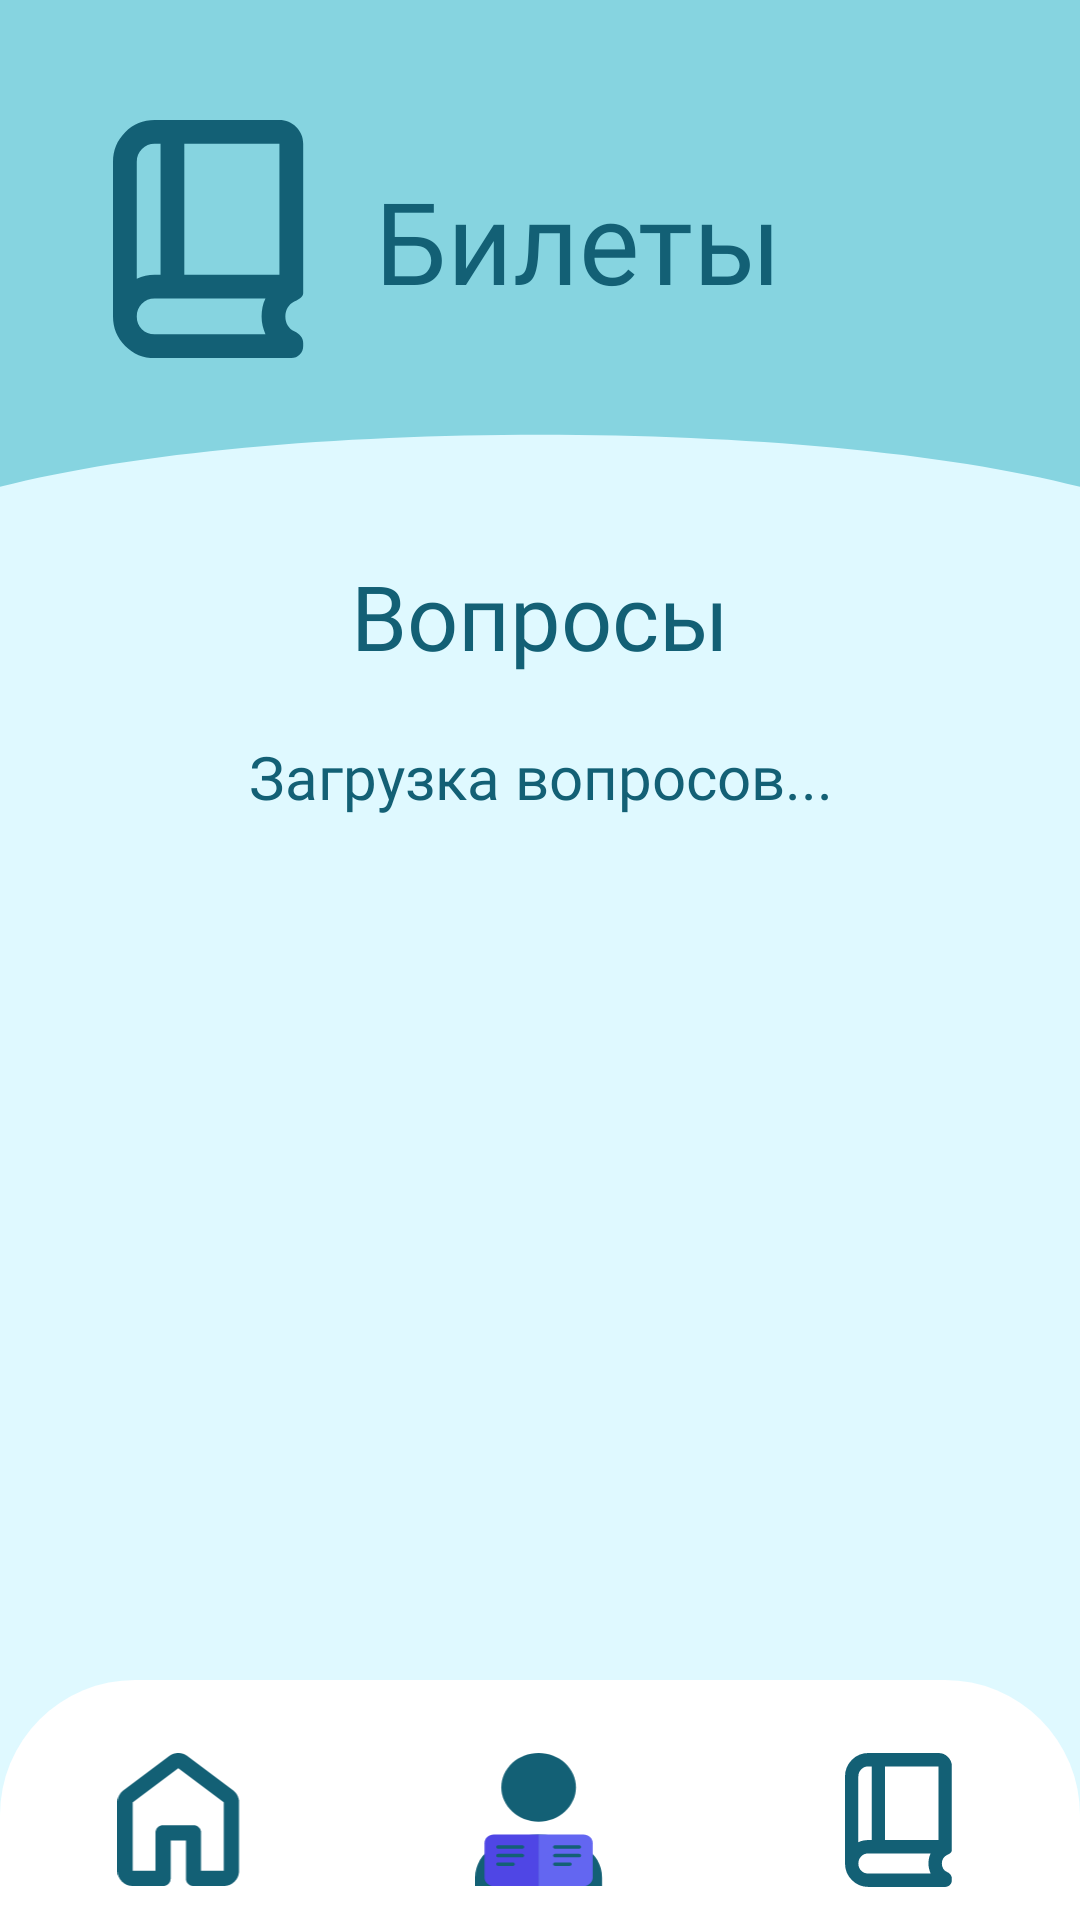

Icons on this 1080 × 1920 Android screen, each with its box as (x1, y1, x2, y2):
avaterbook: (475, 1753, 603, 1886)
book: (113, 120, 303, 358), (845, 1753, 952, 1887)
home: (117, 1753, 240, 1886)
